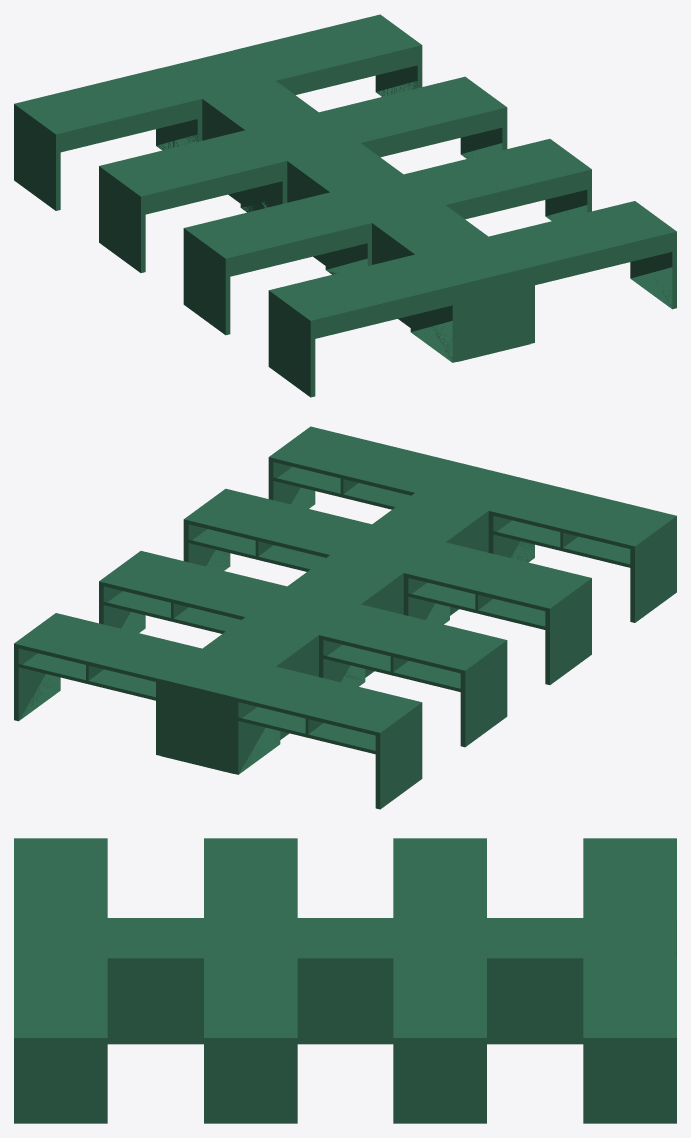
The model's file is desk.fbx.
3 views of the same model, one above another, from view 1: azimuth 30°, elevation 25°; view 2: azimuth 150°, elevation 25°; view 3: azimuth 270°, elevation 25° (orthographic). The views are drawn at different scales.
Parts seen in each view (by area): view 1: Cube.001; view 2: Cube.001; view 3: Cube.001.
Part boxes in pixels (left/top/right/bottom): Cube.001: left=14, top=14, right=676, bottom=397; Cube.001: left=14, top=426, right=676, bottom=809; Cube.001: left=14, top=838, right=676, bottom=1123.
Bounding box in the file's own units: 500 × 100 × 701.
